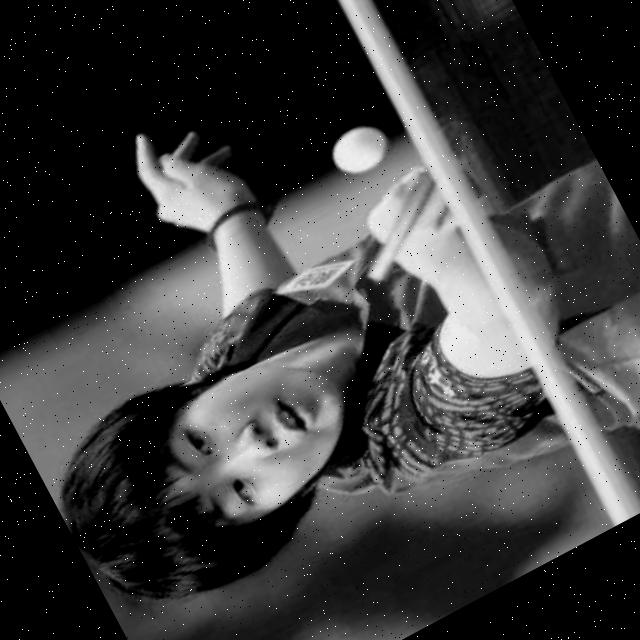ping-pong-ball: (318, 112, 398, 186)
